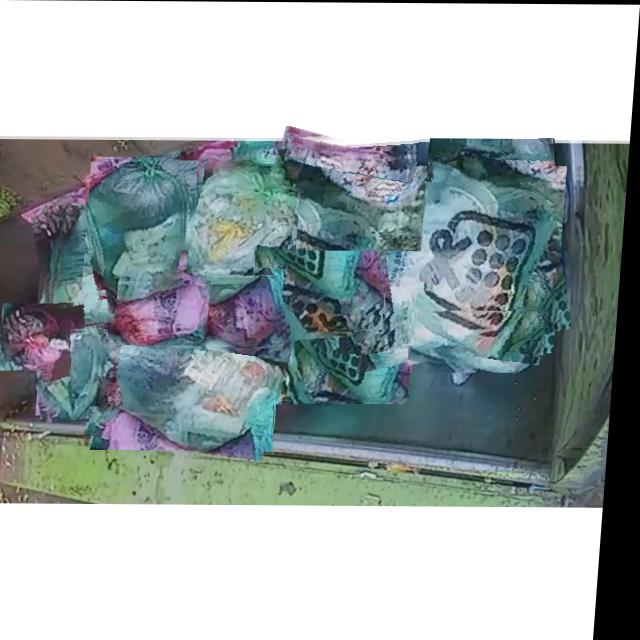general_trashbag: (352, 176, 558, 339), (104, 318, 281, 451), (275, 275, 419, 401), (91, 157, 187, 301), (190, 164, 303, 280), (303, 169, 427, 250), (260, 251, 388, 328), (54, 208, 124, 330), (414, 309, 549, 372), (49, 325, 124, 422), (432, 138, 555, 181)
other_trashbag: (289, 135, 419, 192), (121, 282, 216, 344), (214, 275, 282, 346), (8, 305, 72, 370)
